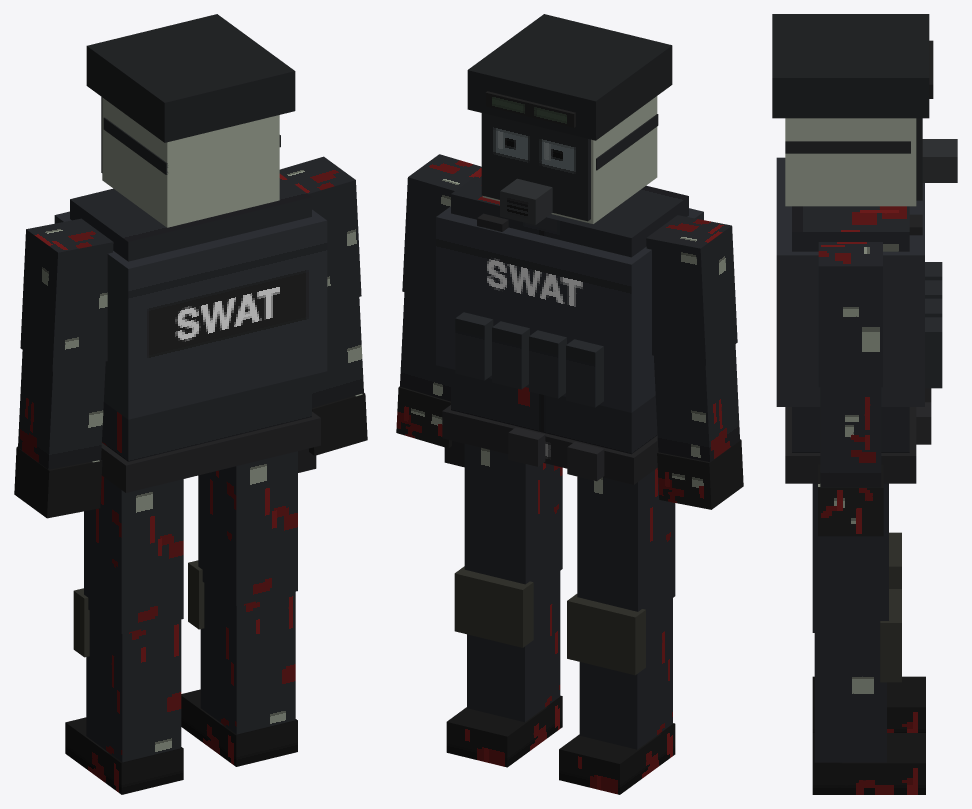
The model's file is mon_zombie_swat.glb.
3 views of the same model, side by side, from view 1: azimuth 30°, elevation 25°; view 2: azimuth 150°, elevation 25°; view 3: azimuth 270°, elevation 25° (orthographic). The views are drawn at different scales.
Visible parts, largest first — view 1: block_vest, block_helmet, block_torso, block_head, block_thigh.L, block_thigh.R, block_shin.L, block_shin.R, block_upper_arm.L, block_forearm.L, block_belt, block_upper_arm.R (+8 smaller); view 2: block_vest, block_helmet, block_torso, block_thigh.L, block_thigh.R, block_upper_arm.L, block_mag-pouch (×4), block_shin.R, block_shin.L, block_forearm.L, block_swat-mask, block_upper_arm.R (+13 smaller); view 3: block_helmet, block_vest, block_head, block_upper_arm.R, block_shin.R, block_thigh.R, block_torso, block_forearm.R, block_foot.R, block_hand.R, block_belt, block_foot.L (+7 smaller).
Boxes of the visible parts, x1,y1,x2,y2 form: block_vest: [54, 209, 327, 419]; block_helmet: [86, 14, 295, 142]; block_torso: [70, 174, 311, 461]; block_head: [102, 97, 279, 227]; block_thigh.L: [84, 475, 183, 633]; block_thigh.R: [198, 451, 297, 605]; block_shin.L: [86, 611, 181, 762]; block_shin.R: [200, 583, 295, 734]; block_upper_arm.L: [20, 218, 113, 371]; block_forearm.L: [18, 350, 105, 469]; block_belt: [101, 411, 320, 492]; block_upper_arm.R: [279, 156, 361, 306]; block_vest: [436, 206, 703, 412]; block_helmet: [467, 14, 672, 140]; block_torso: [451, 172, 688, 454]; block_thigh.L: [577, 468, 675, 617]; block_thigh.R: [464, 444, 562, 589]; block_upper_arm.L: [646, 215, 737, 365]; block_mag-pouch (×4): [455, 312, 603, 407]; block_shin.R: [467, 571, 560, 722]; block_shin.L: [579, 598, 672, 749]; block_forearm.L: [654, 344, 739, 461]; block_swat-mask: [481, 113, 590, 221]; block_upper_arm.R: [402, 154, 481, 301]; block_helmet: [772, 14, 929, 118]; block_vest: [776, 157, 924, 406]; block_head: [785, 118, 916, 206]; block_upper_arm.R: [818, 242, 882, 387]; block_shin.R: [814, 633, 886, 762]; block_thigh.R: [812, 483, 888, 632]; block_torso: [792, 206, 909, 452]; block_forearm.R: [820, 387, 881, 487]; block_foot.R: [812, 733, 925, 794]; block_hand.R: [818, 464, 883, 536]; block_belt: [785, 407, 916, 483]; block_foot.L: [812, 676, 925, 732].
Bounding box in the file's own units: 0.8548 × 1.79 × 0.425.
Materials: 1 (1 with a texture image).
